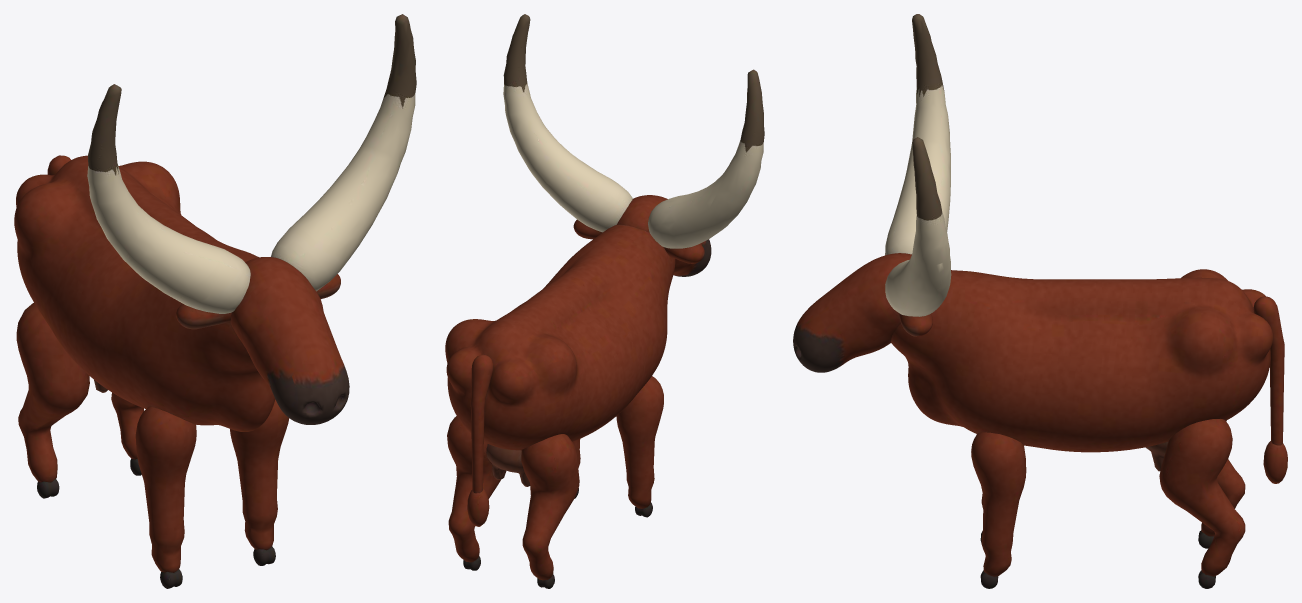
File: animal_watusi.glb
3 views of the same model, side by side, from view 1: azimuth 30°, elevation 25°; view 2: azimuth 150°, elevation 25°; view 3: azimuth 270°, elevation 25° (orthographic). The views are drawn at different scales.
Parts seen in each view (by area): view 1: head, animal_watusi, leg2, leg0, leg1, leg3; view 2: animal_watusi, head, leg2, leg0, leg3, tail; view 3: animal_watusi, head, leg3, leg1, tail, leg2.
Part boxes in pixels (box(x1,y1,x2,y2)): head: box(87, 14, 416, 424); animal_watusi: box(14, 155, 275, 431); leg2: box(16, 303, 89, 498); leg0: box(135, 406, 196, 588); leg1: box(230, 399, 289, 565); leg3: box(111, 392, 143, 475); animal_watusi: box(445, 224, 675, 486); head: box(503, 14, 764, 276); leg2: box(521, 434, 579, 588); leg0: box(616, 376, 663, 517); leg3: box(447, 416, 501, 570); tail: box(467, 354, 493, 526); animal_watusi: box(891, 269, 1272, 471); head: box(793, 14, 951, 372); leg3: box(1159, 419, 1245, 588); leg1: box(971, 432, 1026, 588); tail: box(1253, 296, 1287, 483); leg2: box(1198, 420, 1245, 548).
Size of the model in its own units: 0.5439 by 0.8896 by 0.8125.
1 material, 1 textured.
